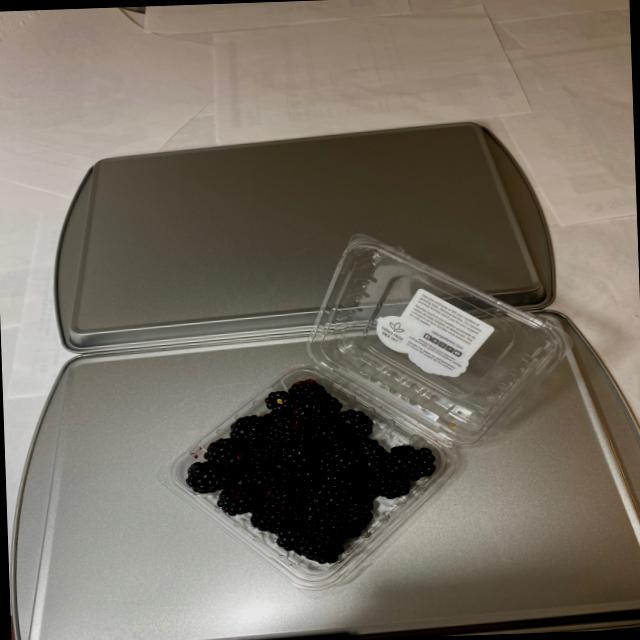blackberries: (174, 344, 480, 573)
